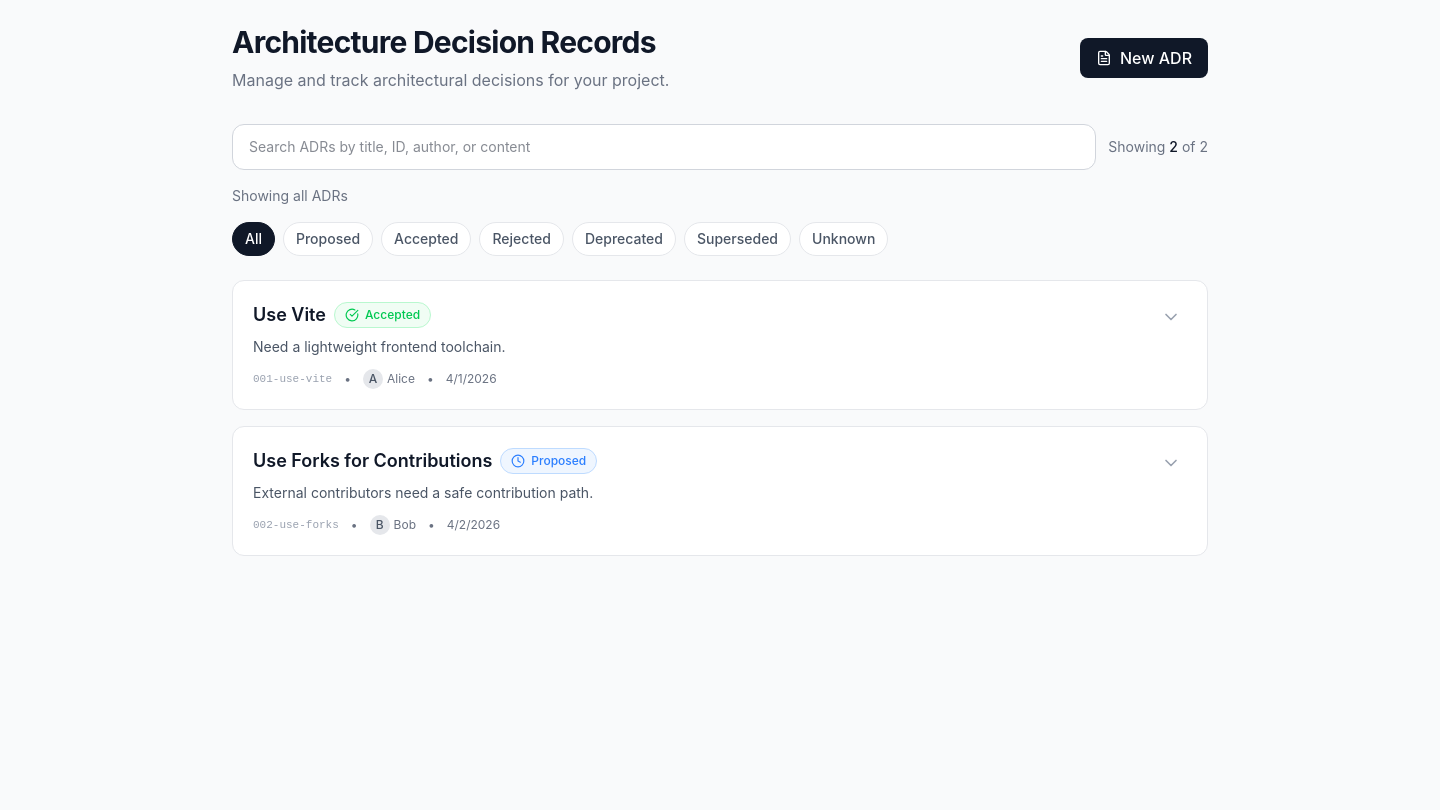
Test: AdrList › shows an inline error when status update MR creation fails
The image size is (1440, 810).
Click the heading "Use Vite" at (290, 315), box x1=253 y1=301 x2=326 y2=329
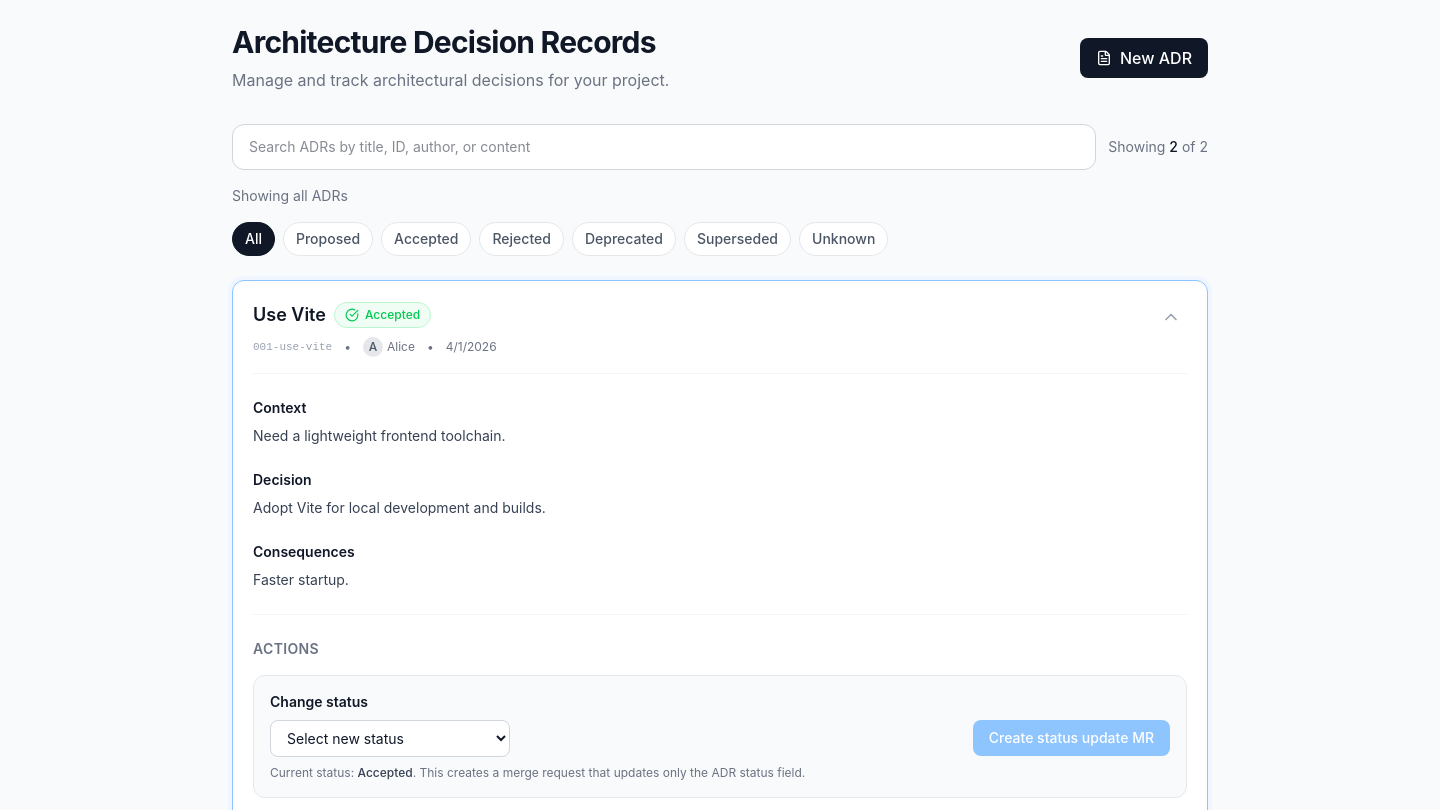
Expected: the dropdown labelled "Change status" shows "Select new status"
Expected: the button "Create status update MR" is disabled, x1=973 y1=720 x2=1170 y2=756
Select "Deprecated" in the dropdown labelled "Change status" at (390, 738), box x1=270 y1=720 x2=510 y2=757
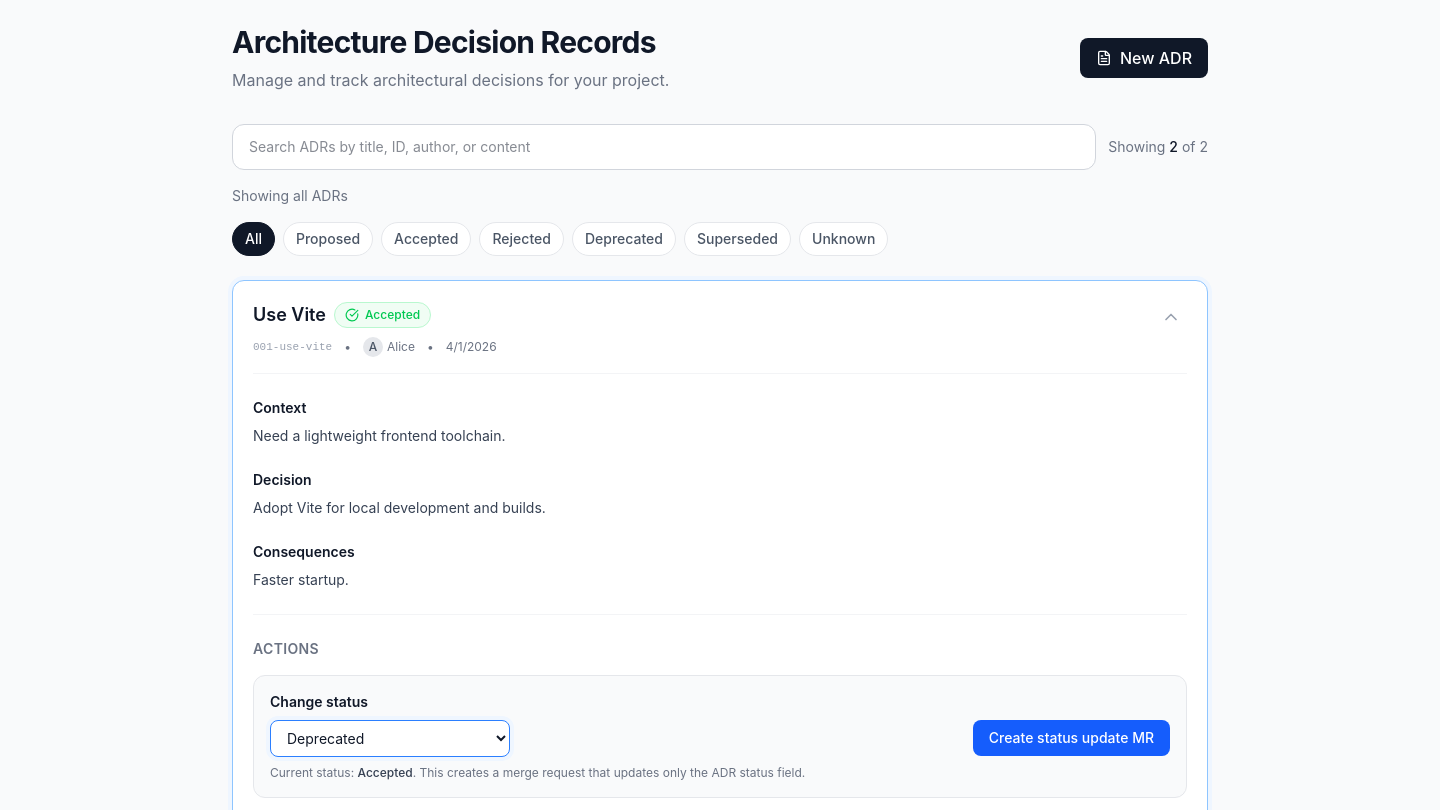
Expected: the button "Create status update MR" is enabled
Click the button "Create status update MR" at (1071, 738), box x1=973 y1=720 x2=1170 y2=756
(page scrolled)
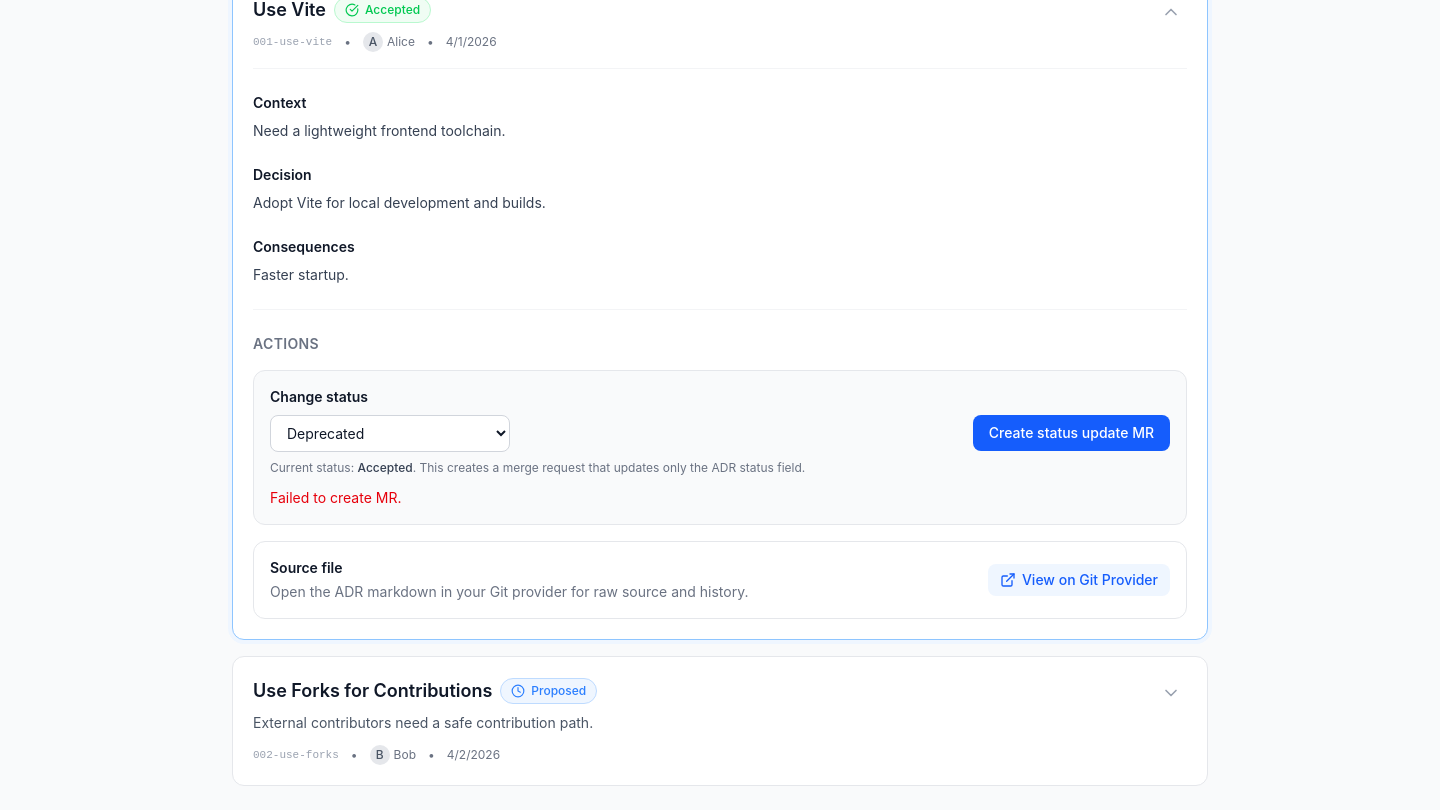
Expected: the text "Failed to create MR." is shown, x1=270 y1=489 x2=402 y2=506
